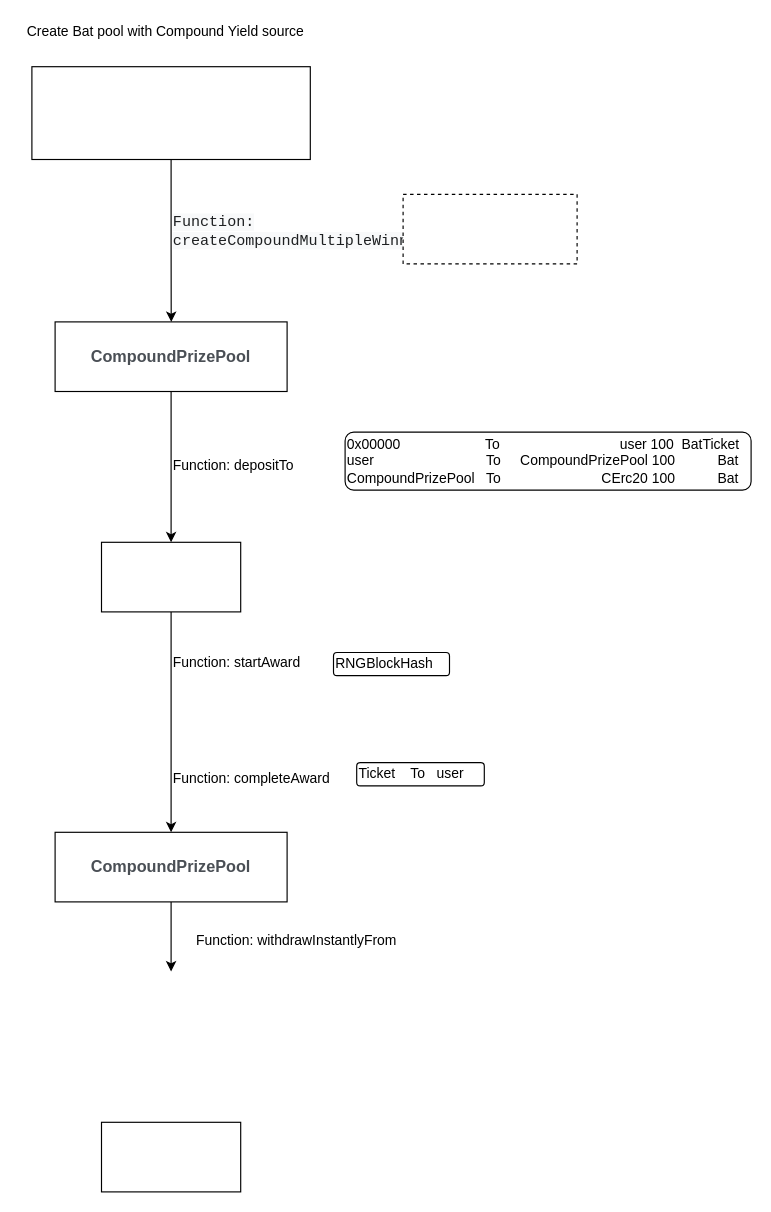
Some shapes in this 771 by 1212 pixel diagram are drawn without their labels. Here are the shapes that lost their labels. From the top down, the centre of each, then its label:
the point at 170,113: PoolWithMultipleWinnersBuilder
the point at 489,228: CompoundPrizePool.sol Ticket.sol MultipleWinners.sol
the point at 170,576: MultipleWinners
